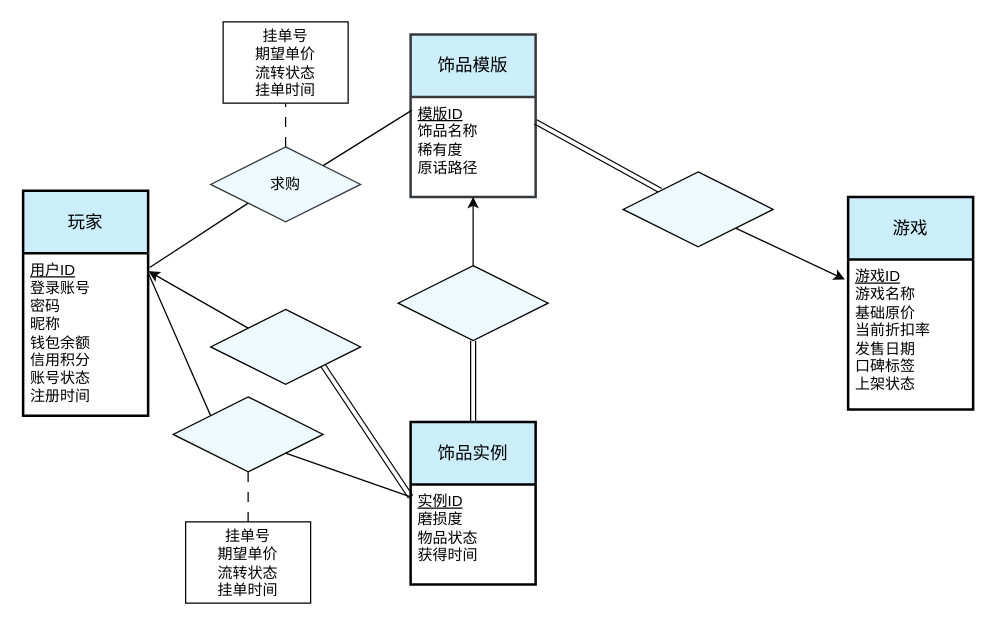
Some shapes in this 995 by 625 pixel diagram are drawn without their labels. Here are the shapes that lost their labels. From the top down, the centre of each, then its label:
the point at 697,209: 掉落
the point at 472,302: 实例化
the point at 285,346: 持有
the point at 247,434: 出售
